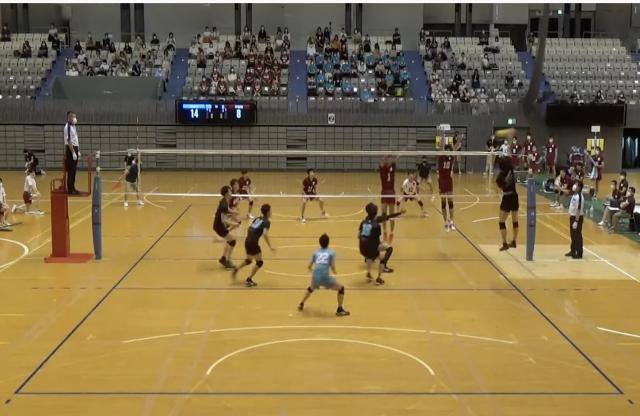spike: (486, 126, 527, 258)
